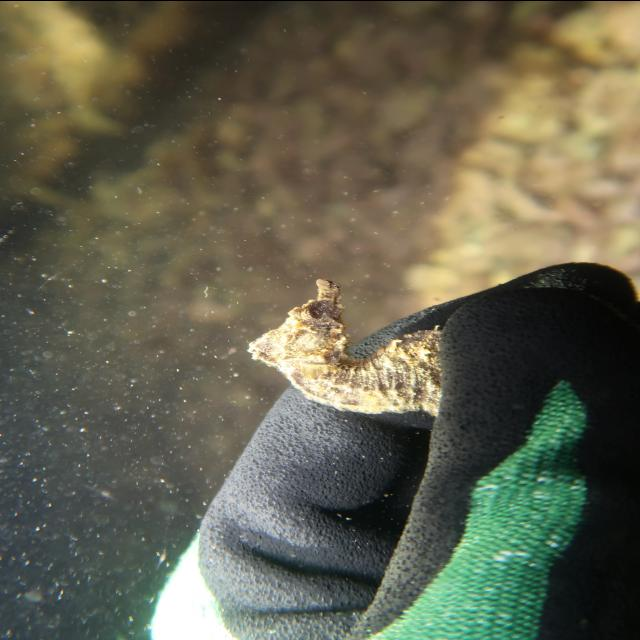Hippo: (242, 274, 356, 368)
